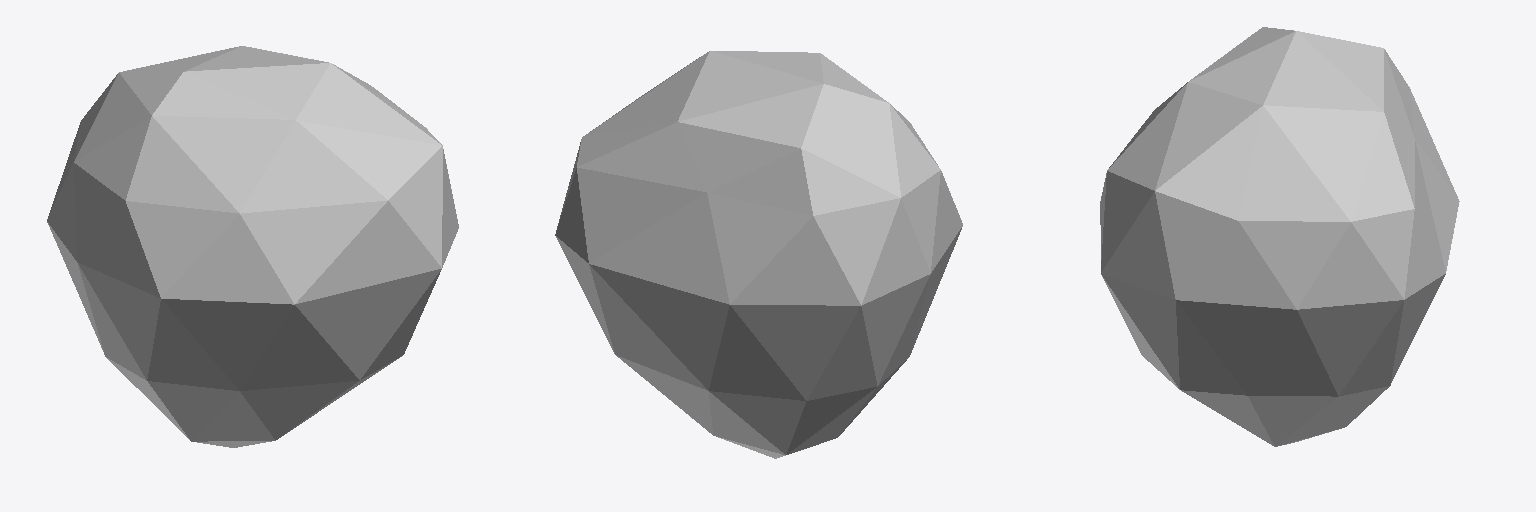
The model's file is O_JungleWorldIsland_c.obj.
3 views of the same model, side by side, from view 1: azimuth 30°, elevation 25°; view 2: azimuth 150°, elevation 25°; view 3: azimuth 270°, elevation 25° (orthographic).
Visible parts, largest first — view 1: O_JungleWorldIsland_c; view 2: O_JungleWorldIsland_c; view 3: O_JungleWorldIsland_c.
Part boxes in pixels (x1,y1,x2,y2): O_JungleWorldIsland_c: (47,46,458,447); O_JungleWorldIsland_c: (555,51,962,458); O_JungleWorldIsland_c: (1100,27,1459,446).
Size of the model in its own units: 115 by 125 by 105.